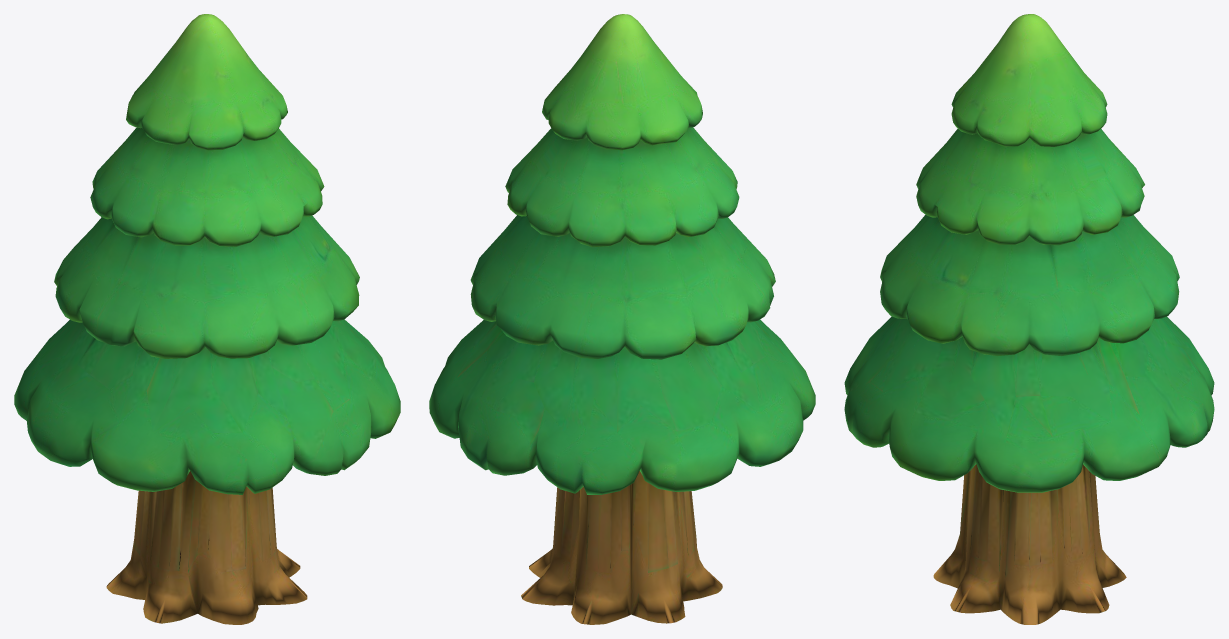
The model's file is pine.glb.
3 views of the same model, side by side, from view 1: azimuth 30°, elevation 25°; view 2: azimuth 150°, elevation 25°; view 3: azimuth 270°, elevation 25° (orthographic).
Parts seen in each view (by area): view 1: geometry_0; view 2: geometry_0; view 3: geometry_0.
Part boxes in pixels (bbox=[...]): geometry_0: bbox=[14, 14, 400, 624]; geometry_0: bbox=[429, 14, 815, 624]; geometry_0: bbox=[844, 14, 1214, 624].
Size of the model in its own units: 0.5854 by 0.9512 by 0.564.
1 material, 1 textured.
